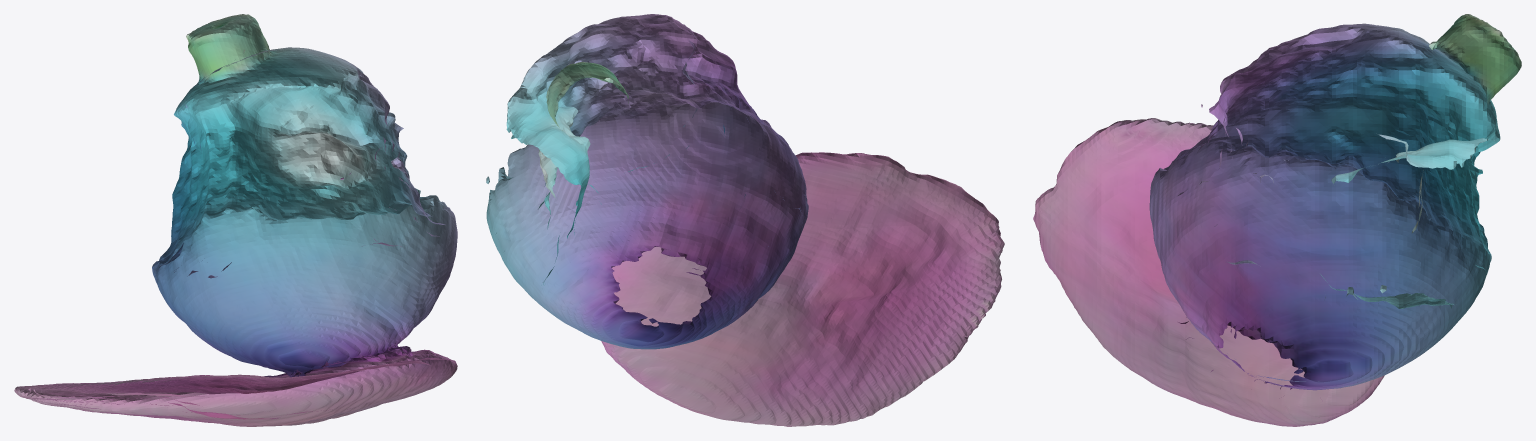
3 views of the same model, side by side, from view 1: azimuth 30°, elevation 25°; view 2: azimuth 150°, elevation 25°; view 3: azimuth 270°, elevation 25° (orthographic). The views are drawn at different scales.
Visible parts, largest first — view 1: geometry_0; view 2: geometry_0; view 3: geometry_0.
Part boxes in pixels (x1=…): geometry_0: x1=14, y1=14, x2=457, y2=426; geometry_0: x1=486, y1=14, x2=1004, y2=426; geometry_0: x1=1033, y1=14, x2=1521, y2=426.
Size of the model in its own units: 1.6 by 1.25 by 1.41.
